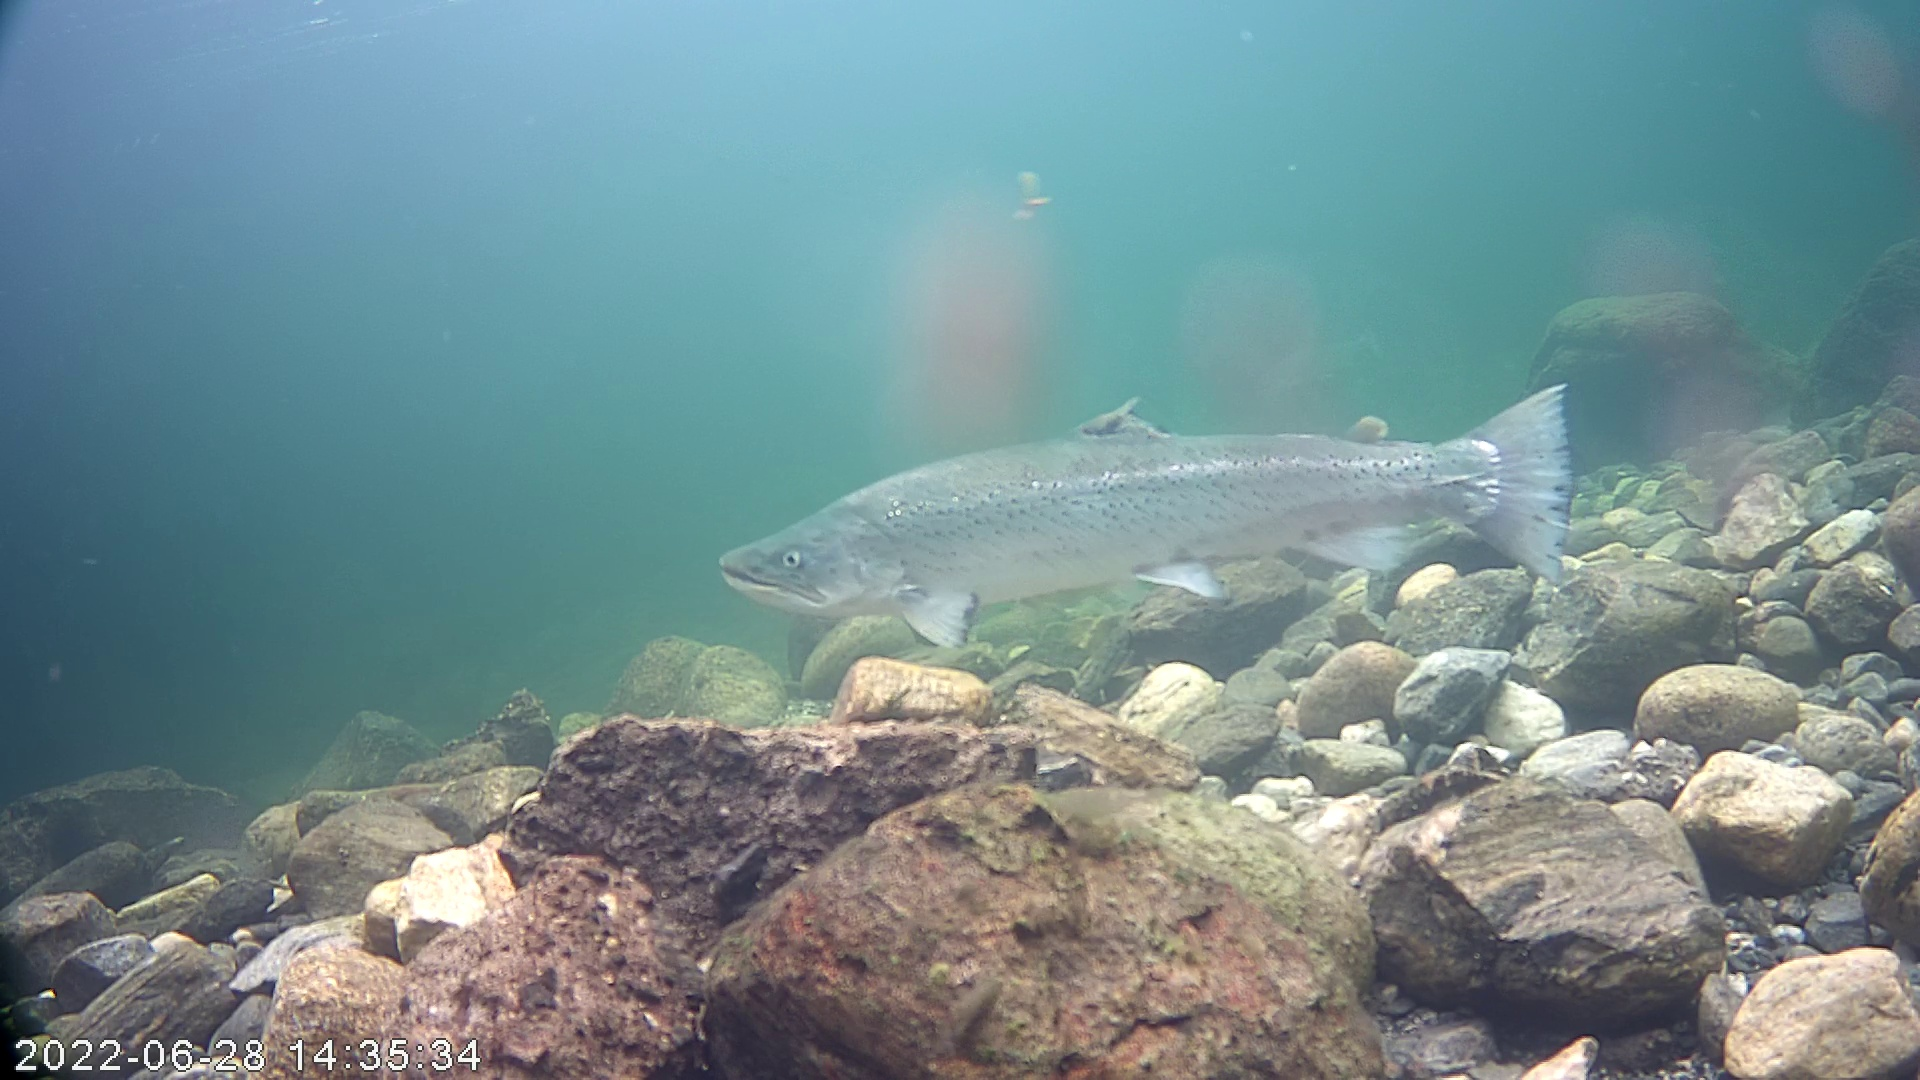salmon: (698, 282, 1605, 698)
